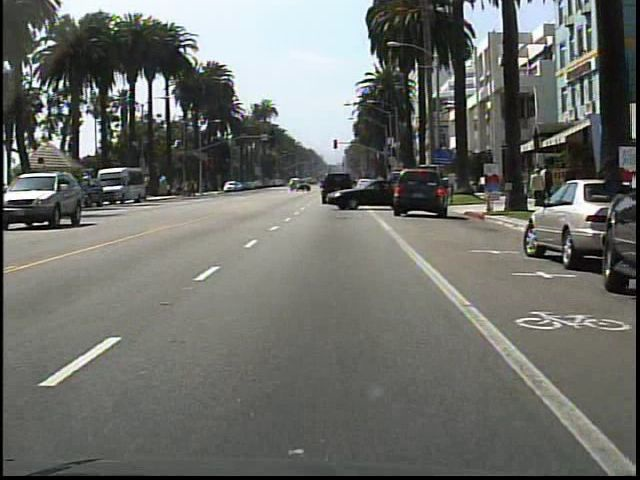person: (540, 160, 556, 208), (371, 169, 388, 206), (530, 167, 545, 206)
